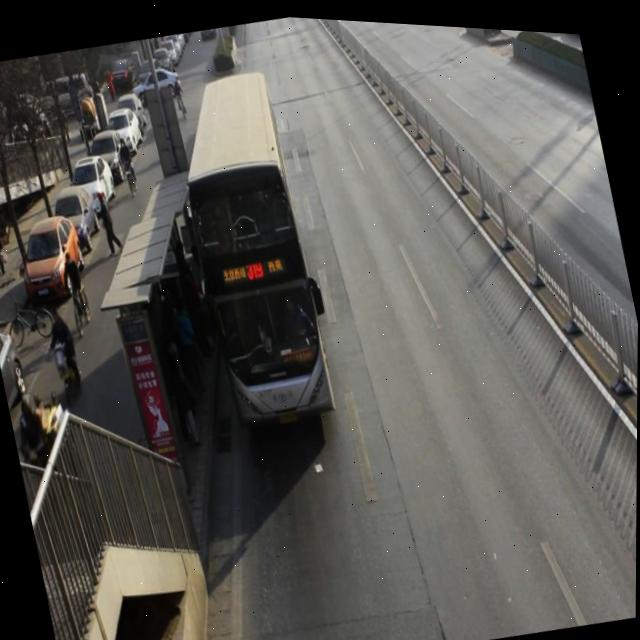van: (161, 63, 338, 427)
